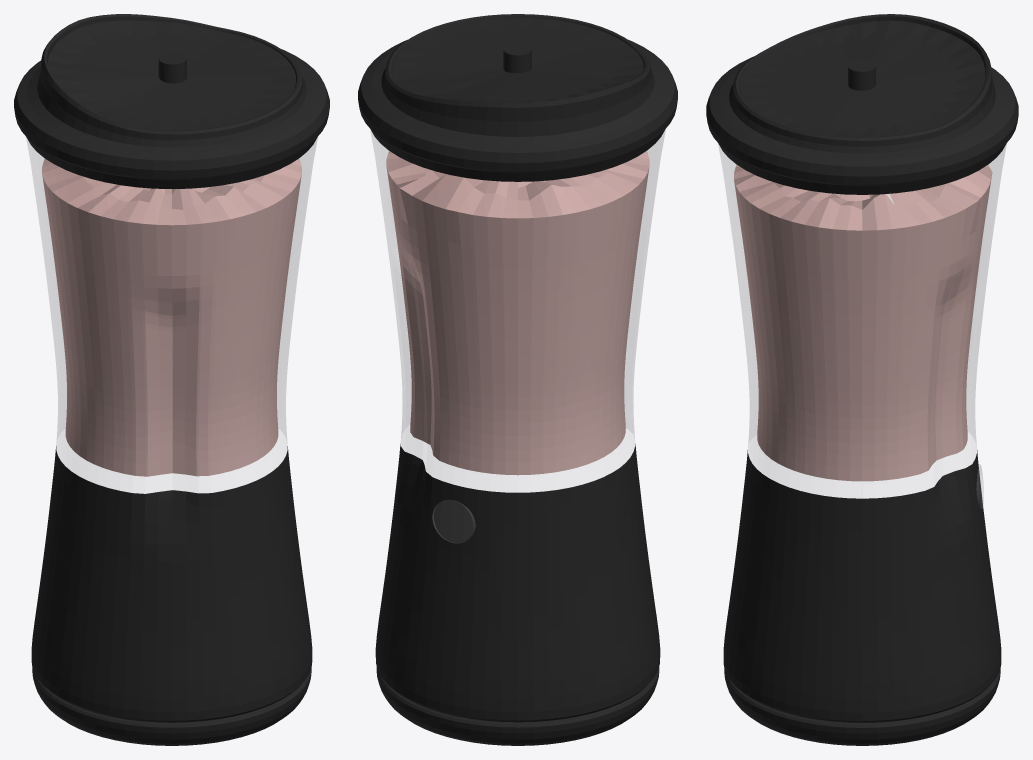
The model's file is 8k0dRGrWOOd.glb.
3 renders of one model, left to right at view 1: azimuth 30°, elevation 25°; view 2: azimuth 150°, elevation 25°; view 3: azimuth 270°, elevation 25°, orthographic. The views are drawn at different scales.
Visible parts, largest first — view 1: Object002, Cylinder007, Cylinder005; view 2: Object002, Cylinder007, Cylinder005; view 3: Object002, Cylinder007, Cylinder005.
Boxes of the visible parts, x1,y1,x2,y2 form: Object002: (14,14,329,745); Cylinder007: (26,137,317,493); Cylinder005: (42,158,301,476); Object002: (358,14,677,745); Cylinder007: (370,129,665,542); Cylinder005: (386,151,649,475); Object002: (706,14,1018,745); Cylinder007: (718,143,1006,508); Cylinder005: (734,165,992,481).
Size of the model in its own units: 0.4484 by 1 by 0.4477.
